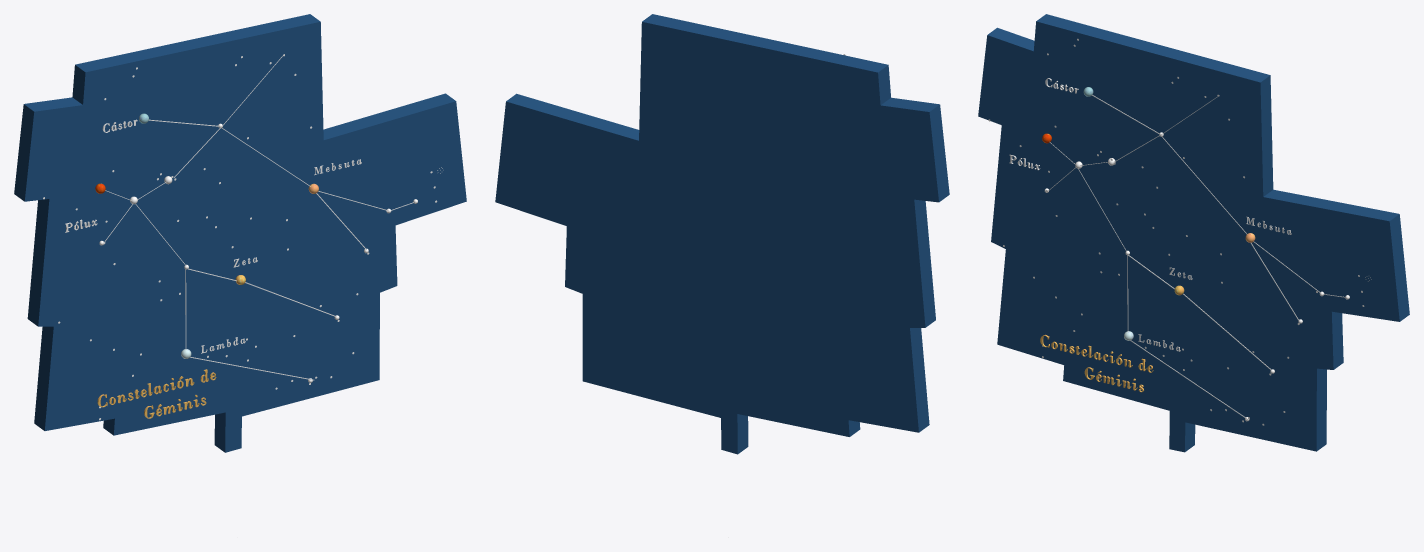
Rendered from GEMINISGLB.glb.
The picture shows the model from 3 angles, left to right: view 1: azimuth 30°, elevation 25°; view 2: azimuth 150°, elevation 25°; view 3: azimuth 330°, elevation 25°; orthographic projection. The views are drawn at different scales.
Visible parts, largest first — view 1: Cubo, Texto.009; view 2: Cubo; view 3: Cubo, Texto.009.
Boxes of the visible parts, x1,y1,x2,y2 form: Cubo: (14, 14, 466, 452); Texto.009: (97, 369, 216, 407); Cubo: (495, 14, 949, 454); Cubo: (978, 14, 1409, 452); Texto.009: (1040, 334, 1153, 372).
Bounding box in the file's own units: 21.53 × 23.57 × 1.32.
8 materials, 5 textured.
